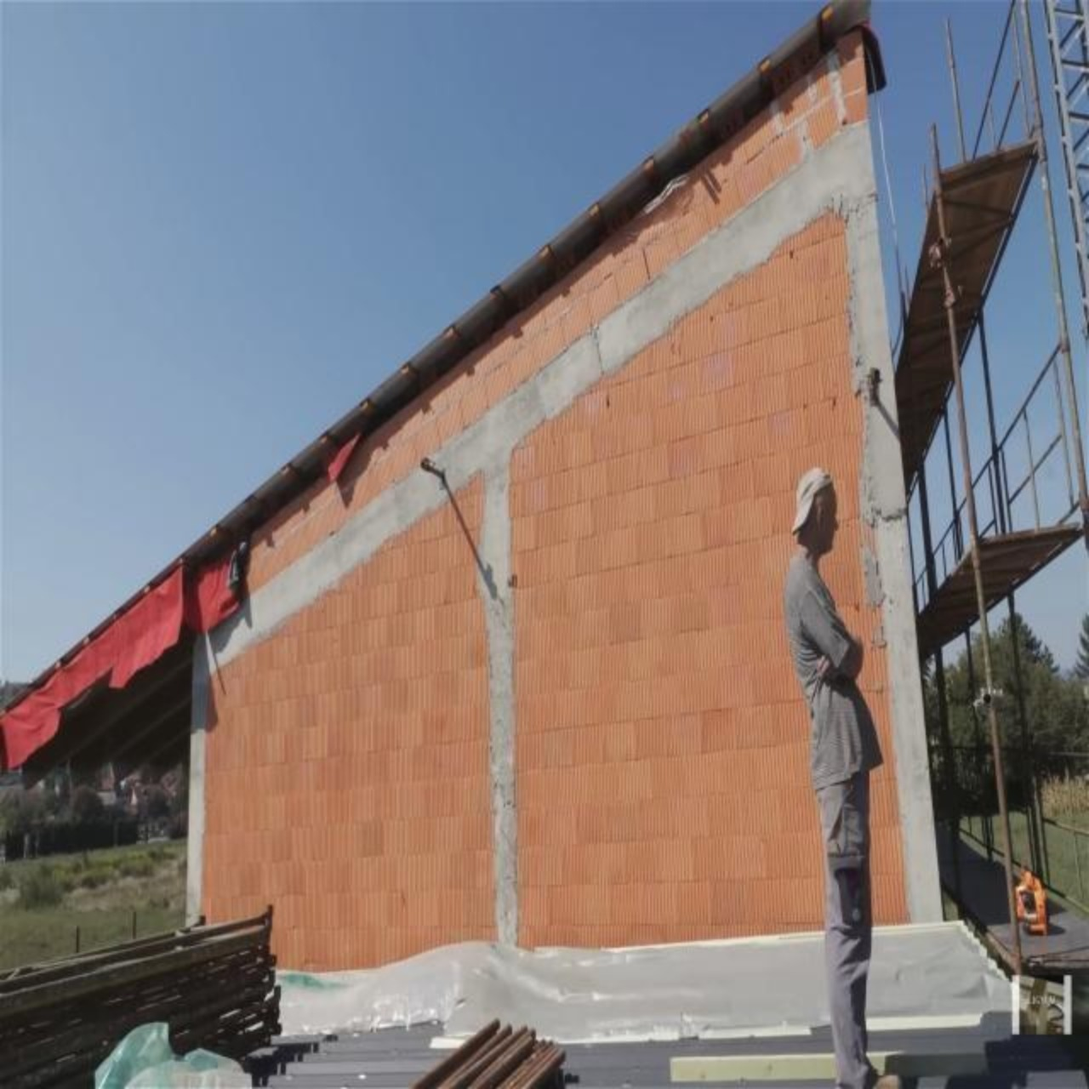no_helmet: (795, 467, 839, 561)
no_vest: (784, 554, 883, 787)
person: (782, 466, 906, 1089)
